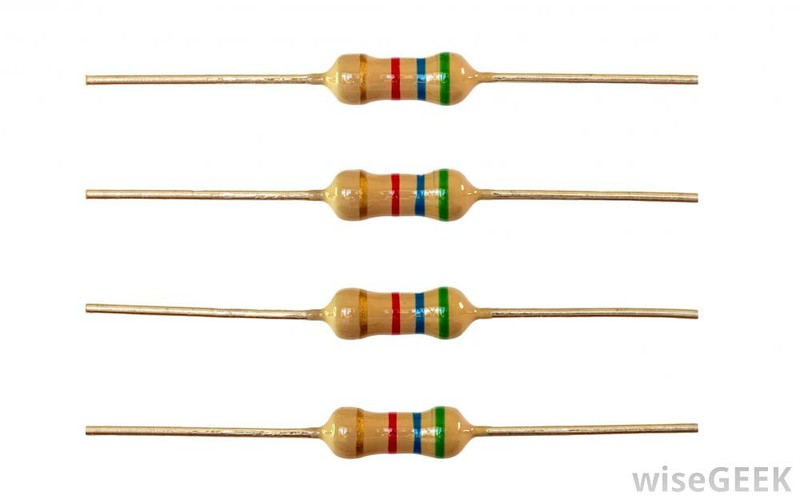Resistor: (269, 17, 513, 106), (297, 365, 487, 463), (287, 265, 490, 352), (306, 159, 498, 227)
